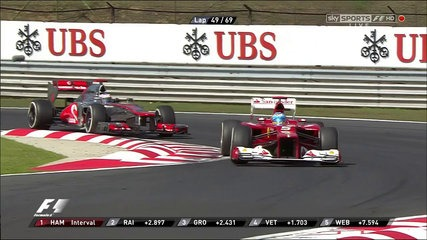race car: (28, 79, 190, 138), (219, 95, 340, 165)
